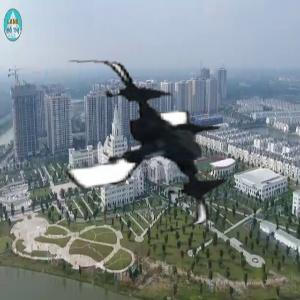drone: (39, 48, 237, 246)
